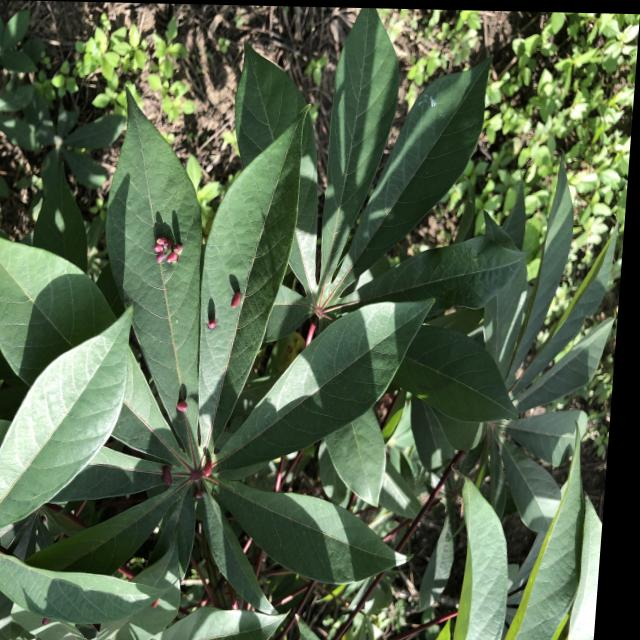Mosca: (152, 444, 215, 505), (151, 216, 190, 274), (218, 277, 257, 319), (164, 387, 195, 423), (200, 301, 224, 344)
